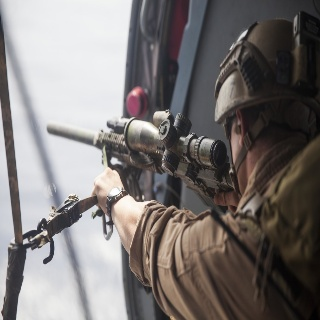rifle: (46, 108, 232, 201)
